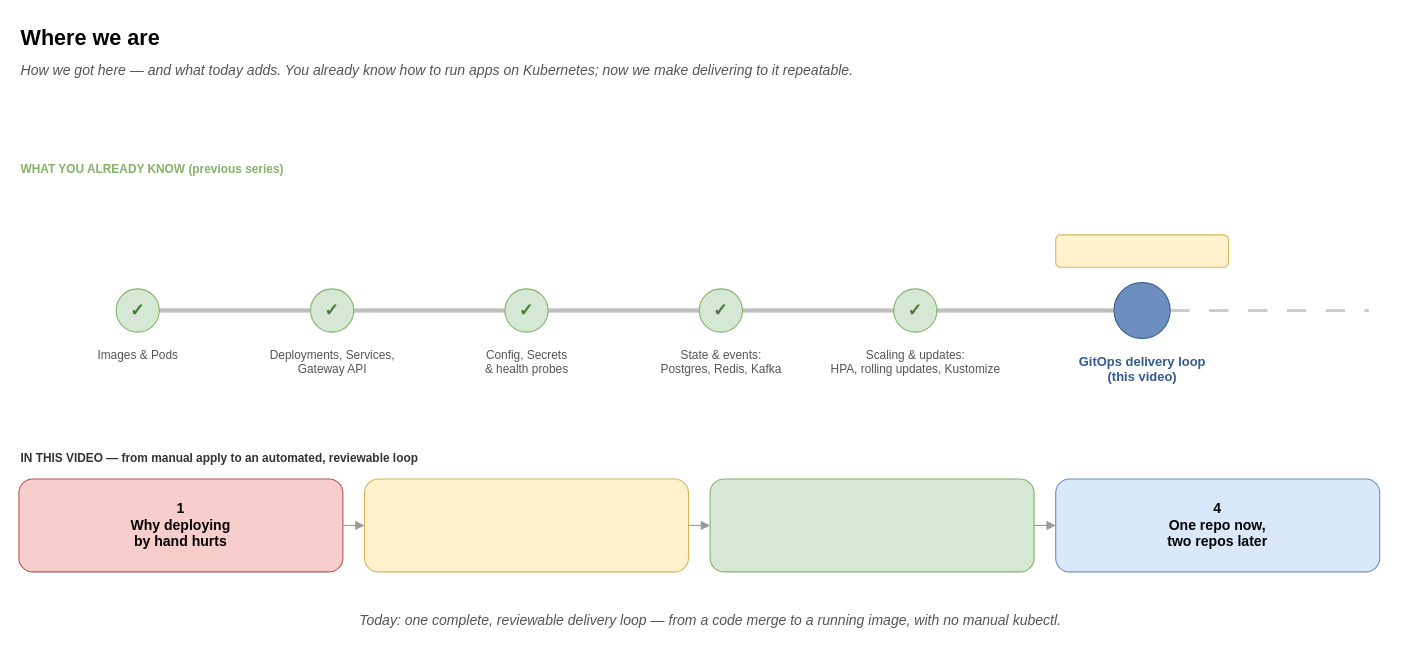
This 1420x657 diagram has some shape labels left out. Here are the shapes that lost their labels. From the top down, the centre of each, then its label:
At point 1141,250: "YOU ARE HERE".
At point 525,525: "2 Tags lie, digests don't".
At point 871,525: "3 The GitOps loop + its trust boundaries".
